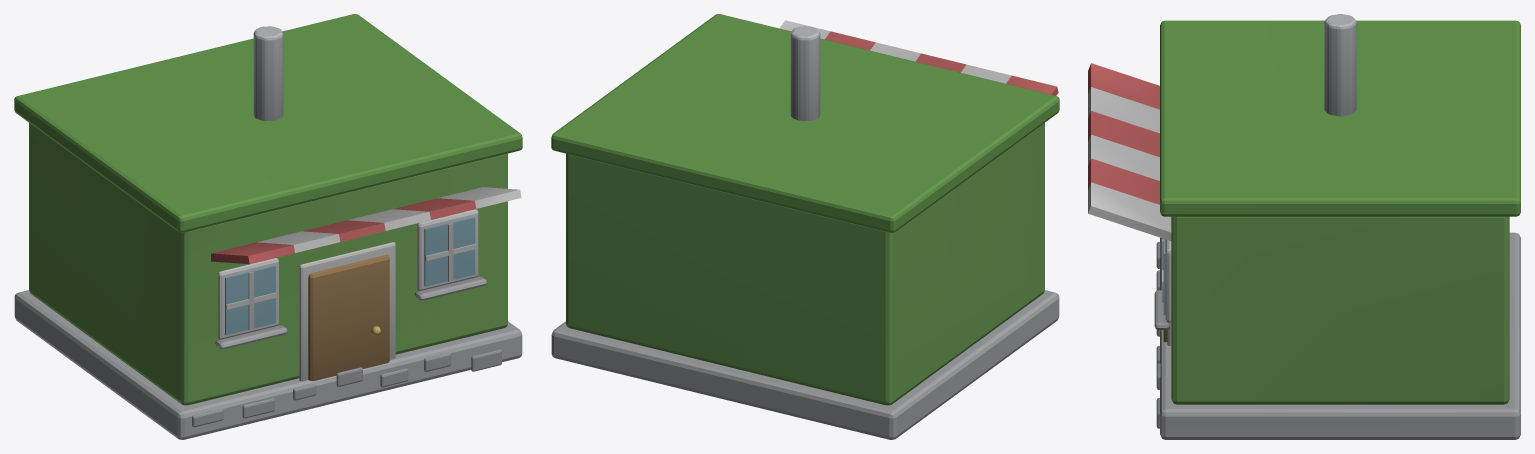
The model's file is atelier6.glb.
3 renders of one model, left to right at view 1: azimuth 30°, elevation 25°; view 2: azimuth 150°, elevation 25°; view 3: azimuth 270°, elevation 25°, orthographic. The views are drawn at different scales.
Visible parts, largest first — view 1: acrotere__wall2, murs__wall, socle__stone, porte__wood, chambr__frame, support__metal, vitre__glass.001, vitre__glass, cadre__frame.001, cadre__frame, auvent__awn2, auvent__awn.002 (+7 smaller); view 2: murs__wall, acrotere__wall2, socle__stone, support__metal, auvent__awn2; view 3: acrotere__wall2, murs__wall, socle__stone, support__metal, auvent__awn.002, auvent__awn2.002, auvent__awn2.001, auvent__awn2, auvent__awn, auvent__awn.001, cadre__frame.001, appui__stone.001.
Boxes of the visible parts, x1,y1,x2,y2 form: acrotere__wall2: (14,14,522,232); murs__wall: (29,123,507,405); socle__stone: (14,290,522,439); porte__wood: (308,255,389,381); chambr__frame: (299,242,395,381); support__metal: (253,26,283,120); vitre__glass.001: (424,217,475,286); vitre__glass: (225,265,275,335); cadre__frame.001: (417,209,478,290); cadre__frame: (217,258,278,339); auvent__awn2: (211,242,294,264); auvent__awn.002: (438,187,521,208); murs__wall: (566,123,1044,405); acrotere__wall2: (551,14,1059,232); socle__stone: (551,290,1059,439); support__metal: (790,26,820,120); auvent__awn2: (1006,75,1058,95); acrotere__wall2: (1160,20,1520,216); murs__wall: (1171,216,1509,404); socle__stone: (1160,232,1520,439); support__metal: (1324,14,1356,116); auvent__awn.002: (1088,182,1171,240); auvent__awn2.002: (1088,158,1159,204); auvent__awn2.001: (1088,111,1159,157); auvent__awn2: (1088,63,1159,109); auvent__awn: (1088,87,1159,133); auvent__awn.001: (1088,134,1159,180); cadre__frame.001: (1165,239,1171,322); appui__stone.001: (1154,290,1170,329).
Size of the model in its own units: 3.8 by 3.25 by 3.84.
